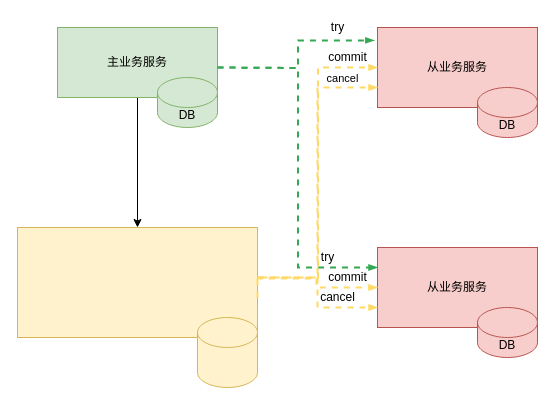
Image size: 555x405. Some labels were removed from this diagram. Here are the shapes that lost their labels. From the top down, the centre of each, then its label:
At (x=137, y=282): "事务管理器".
At (x=227, y=352): "事务日志".
